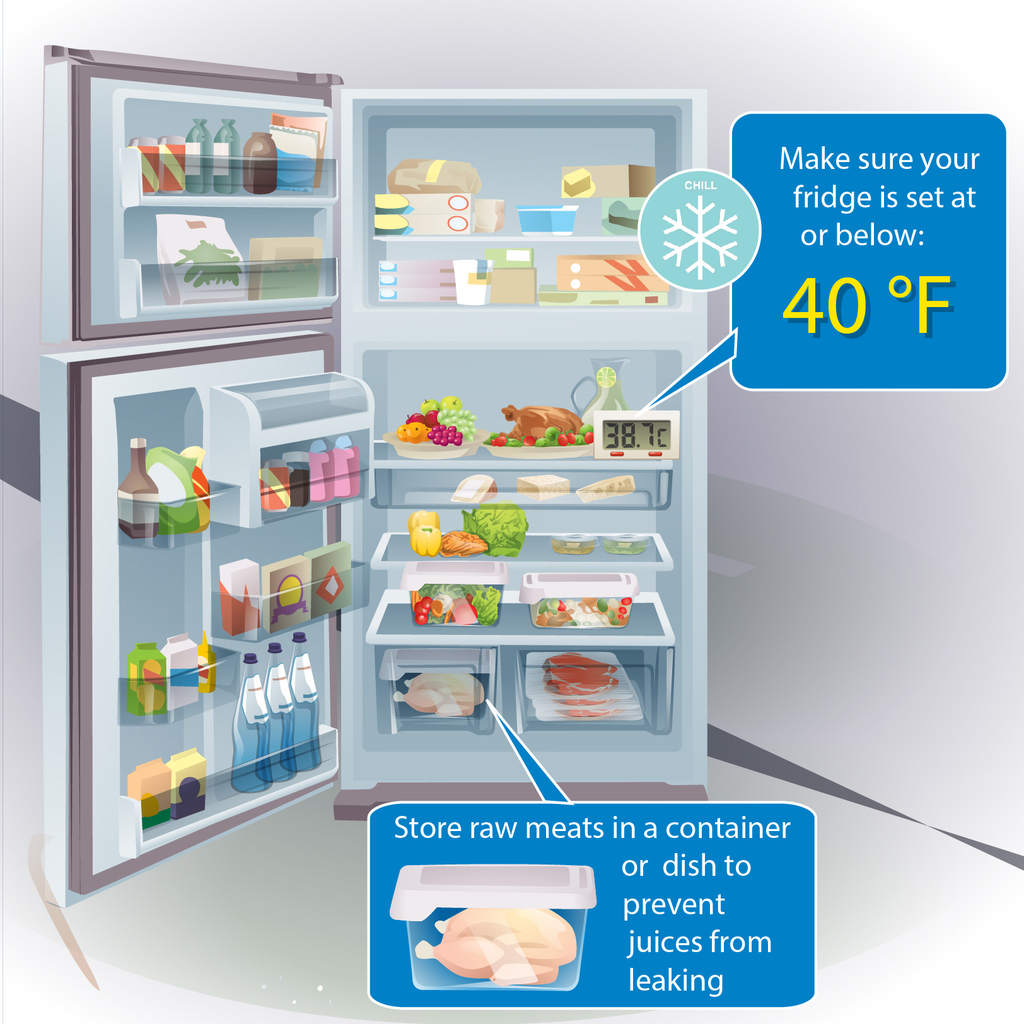refrigerator door: (70, 354, 338, 799), (54, 74, 326, 323)
